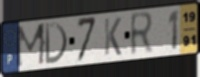1: (165, 9, 180, 52)
7: (76, 15, 98, 65)
D: (44, 21, 69, 66)
K: (103, 16, 123, 57)
M: (15, 21, 47, 70)
R: (129, 10, 156, 59)
